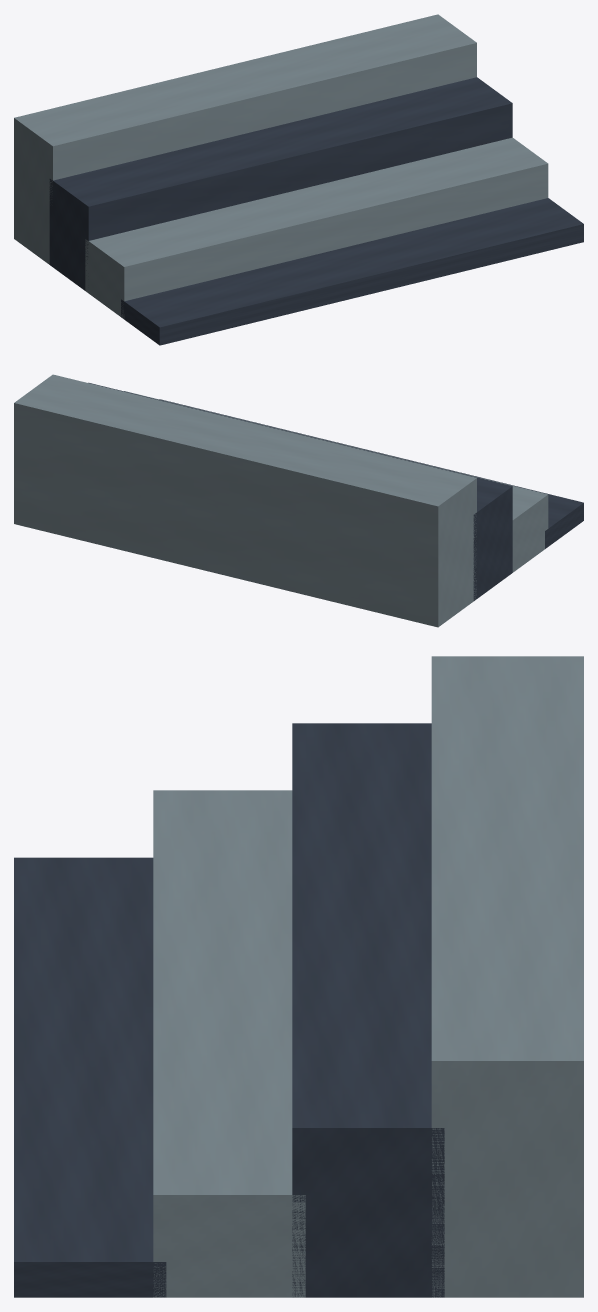
Rendered from atlas100-s021-a10.lod2.glb.
The picture shows the model from 3 angles, top to bottom: view 1: azimuth 30°, elevation 25°; view 2: azimuth 150°, elevation 25°; view 3: azimuth 270°, elevation 25°; orthographic projection. The views are drawn at different scales.
Parts seen in each view (by area): view 1: atlas100-s021-a10:part-003, atlas100-s021-a10:part-002, atlas100-s021-a10:part-001, atlas100-s021-a10:part-000; view 2: atlas100-s021-a10:part-003, atlas100-s021-a10:part-002, atlas100-s021-a10:part-001, atlas100-s021-a10:part-000; view 3: atlas100-s021-a10:part-003, atlas100-s021-a10:part-002, atlas100-s021-a10:part-001, atlas100-s021-a10:part-000.
Part boxes in pixels (x1,y1,x2,y2): atlas100-s021-a10:part-003: (14,14,476,264); atlas100-s021-a10:part-002: (49,77,512,290); atlas100-s021-a10:part-001: (85,137,548,319); atlas100-s021-a10:part-000: (121,198,583,345); atlas100-s021-a10:part-003: (14,374,476,627); atlas100-s021-a10:part-002: (88,382,512,600); atlas100-s021-a10:part-001: (124,391,548,572); atlas100-s021-a10:part-000: (159,399,583,548); atlas100-s021-a10:part-003: (431,656,583,1297); atlas100-s021-a10:part-002: (292,723,444,1297); atlas100-s021-a10:part-001: (153,790,305,1297); atlas100-s021-a10:part-000: (14,857,166,1297).
Size of the model in its own units: 2.2 by 0.6 by 1.31.
2 materials, 2 textured.
